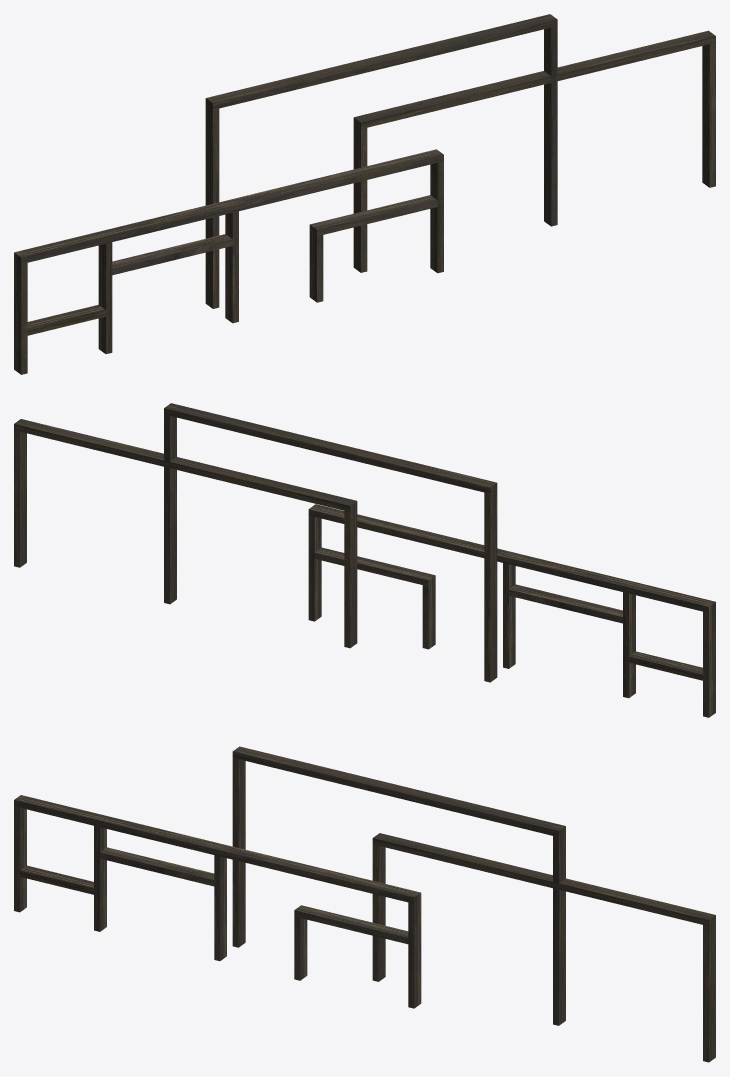
The model's file is aw13_blackebony.fbx.
The picture shows the model from 3 angles, top to bottom: view 1: azimuth 30°, elevation 25°; view 2: azimuth 150°, elevation 25°; view 3: azimuth 330°, elevation 25°; orthographic projection. The views are drawn at different scales.
Parts seen in each view (by area): view 1: aw13_brackebony; view 2: aw13_brackebony; view 3: aw13_brackebony.
Part boxes in pixels (x1,y1,x2,y2): aw13_brackebony: (14,14,715,374); aw13_brackebony: (14,403,715,717); aw13_brackebony: (14,746,715,1062).
Size of the model in its own units: 338 by 93 by 22.
Materials: 1 (1 with a texture image).
